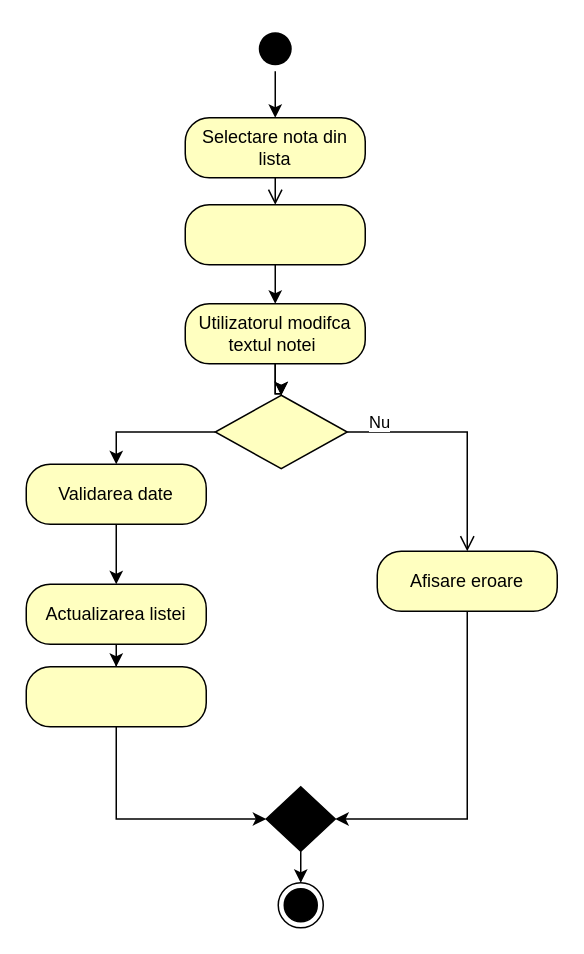
Image size: 584x954. Some labels were removed from this diagram. Each missing label, with the centre of its shape:
"Afisarea listei modificate" belongs at point (115, 696).
"Sistem incarca continutul notitie" belongs at point (274, 234).
"Validare text" belongs at point (280, 431).
